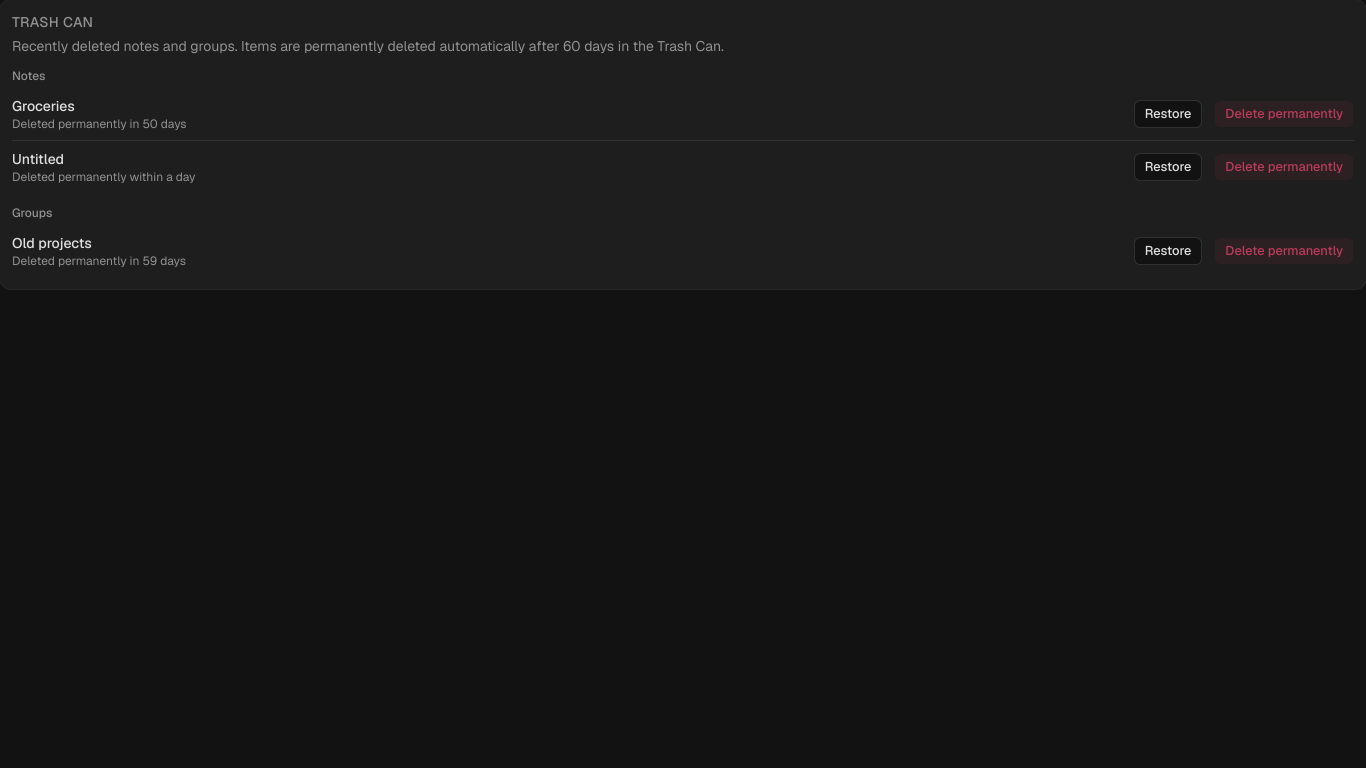
Test case: TrashCan › deletes a note for good once confirmed
Step 1. Click the button with aria-label "Permanently delete Groceries" → (1284, 114), box [1214, 100, 1354, 128]
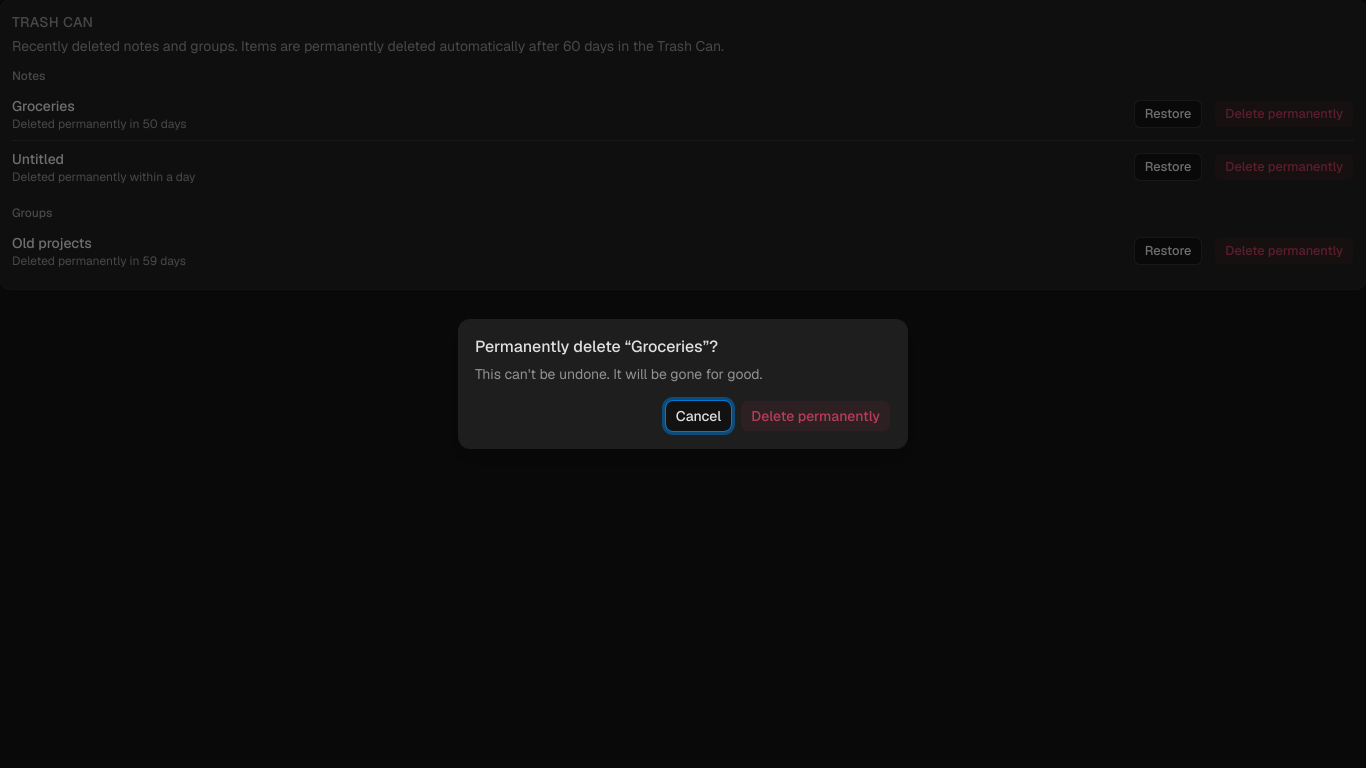
Step 2. Click the button "Delete permanently" → (816, 416), box [740, 400, 891, 432]
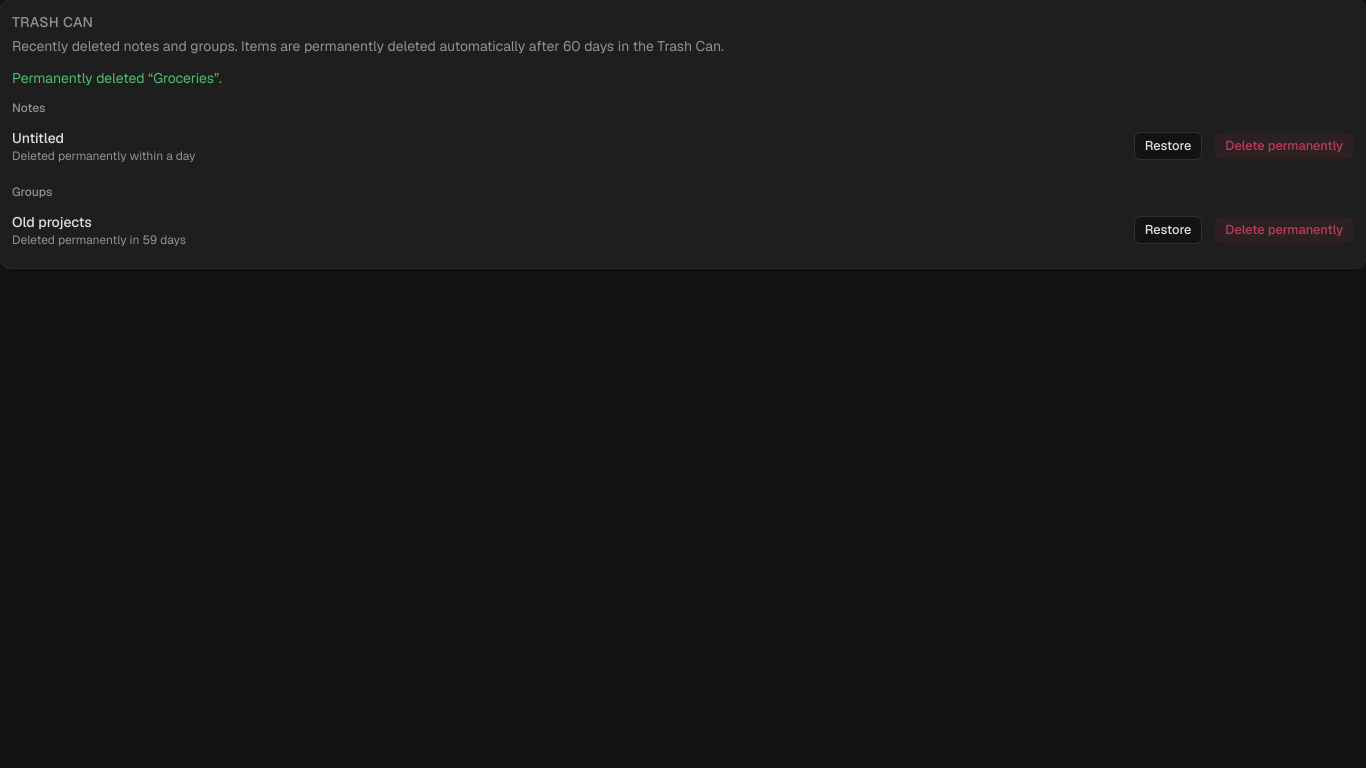
expect the message reads "Permanently deleted “Groceries”.": met, box [12, 69, 222, 87]
